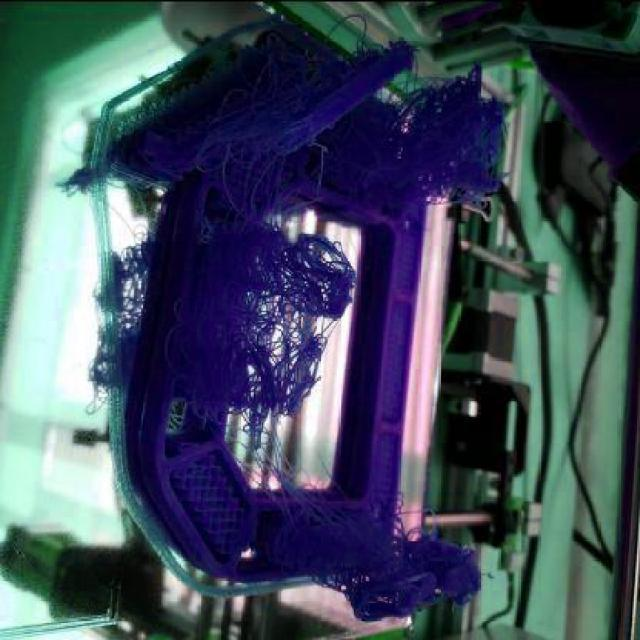spaghetti: (120, 18, 519, 212), (156, 207, 370, 482), (257, 478, 494, 627)
